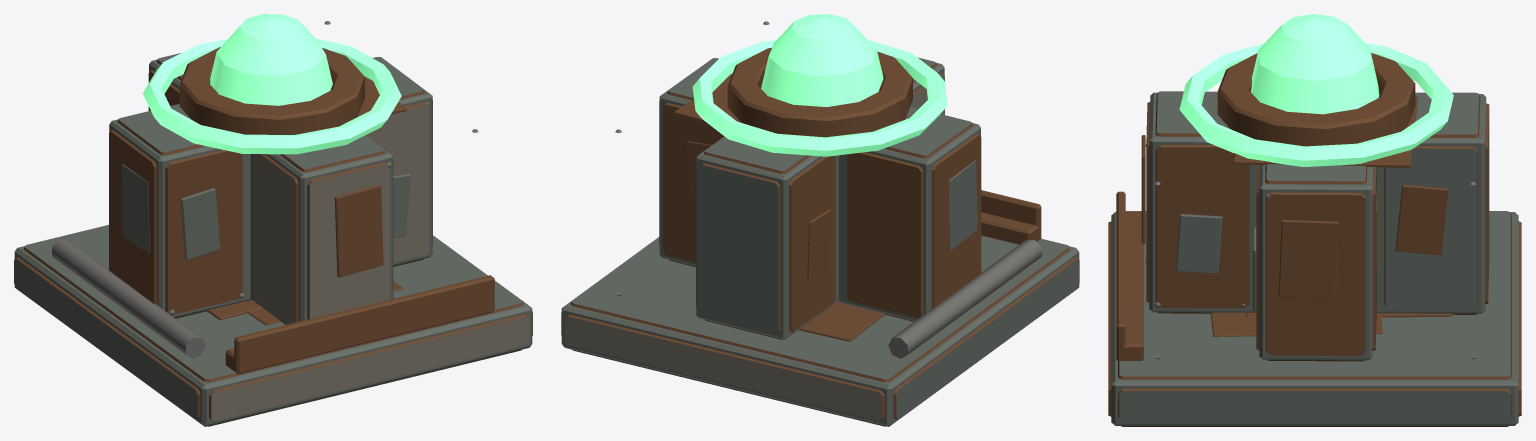
The model's file is R4X_RepairPulse.fbx.
3 views of the same model, side by side, from view 1: azimuth 30°, elevation 25°; view 2: azimuth 150°, elevation 25°; view 3: azimuth 270°, elevation 25° (orthographic). The views are drawn at different scales.
Visible parts, largest first — view 1: R4X_RepairPulse_Body; view 2: R4X_RepairPulse_Body; view 3: R4X_RepairPulse_Body.
Boxes of the visible parts, x1,y1,x2,y2 form: R4X_RepairPulse_Body: (14, 14, 532, 426); R4X_RepairPulse_Body: (561, 14, 1079, 426); R4X_RepairPulse_Body: (1108, 14, 1521, 426).
Bounding box in the file's own units: 0.52 × 0.4513 × 0.52.
